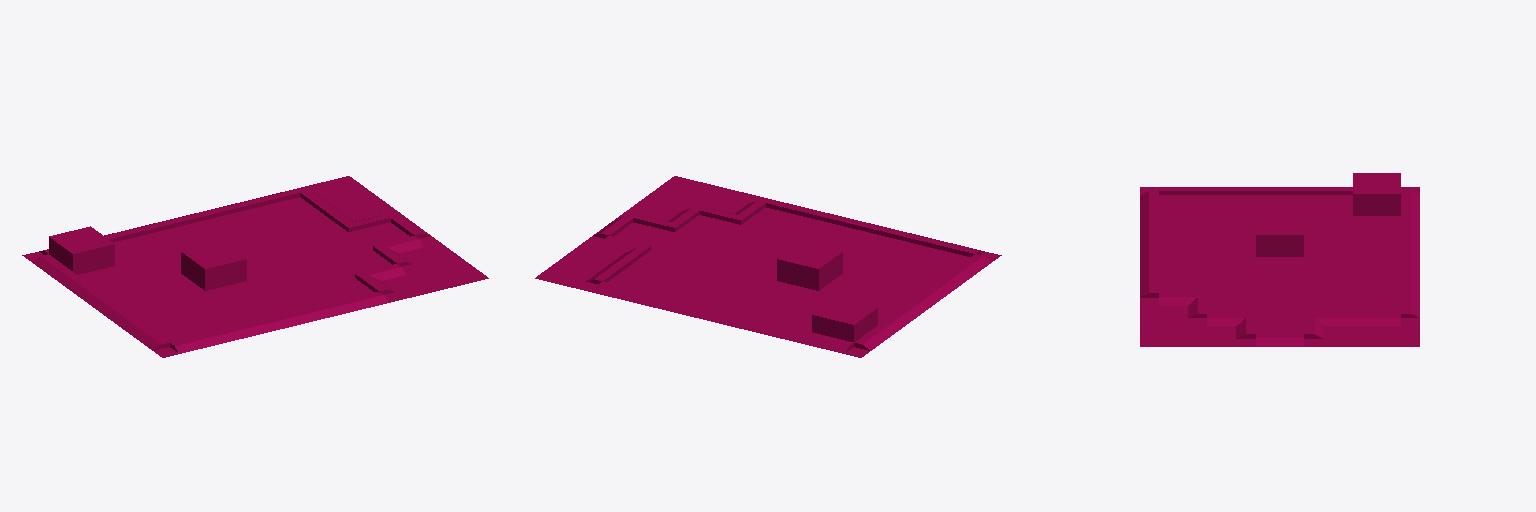
File: maztestT.obj
The picture shows the model from 3 angles: view 1: azimuth 30°, elevation 25°; view 2: azimuth 150°, elevation 25°; view 3: azimuth 270°, elevation 25°; orthographic projection.
Parts seen in each view (by area): view 1: Cube.001_Cube.003; view 2: Cube.001_Cube.003; view 3: Cube.001_Cube.003.
Part boxes in pixels (x1,y1,x2,y2): Cube.001_Cube.003: (22, 176, 488, 357); Cube.001_Cube.003: (535, 176, 1001, 357); Cube.001_Cube.003: (1140, 173, 1419, 346).
Bounding box in the file's own units: 39 × 2.5 × 29.